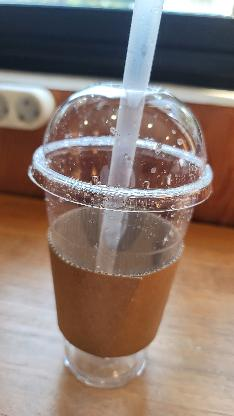Plastic Cup: (25, 81, 215, 389), (29, 82, 215, 214), (95, 0, 163, 270)
